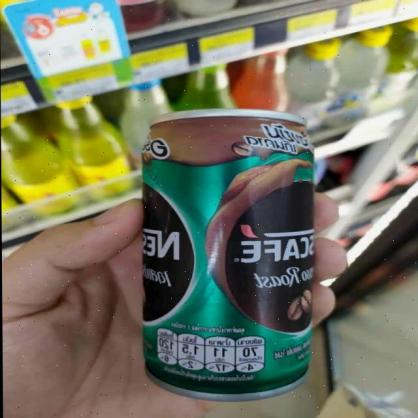can: (139, 107, 317, 402)
